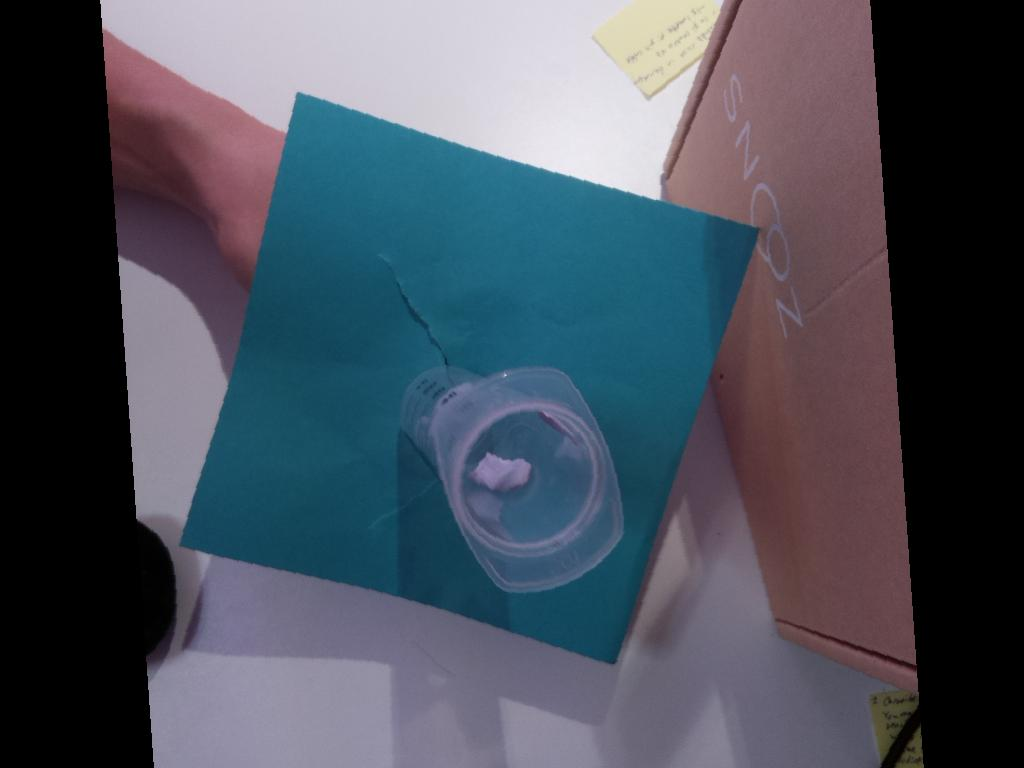dirty: (431, 366, 623, 593)
